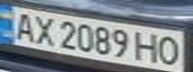0: (75, 21, 93, 53)
2: (54, 18, 78, 52)
8: (90, 25, 112, 56)
9: (109, 27, 133, 60)
A: (9, 9, 39, 43)
H: (133, 29, 163, 63)
O: (154, 34, 184, 66)
X: (30, 14, 57, 47)
